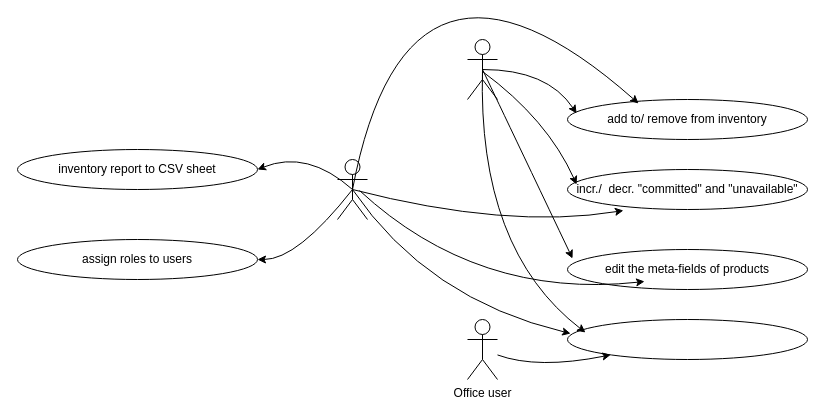
Image size: 825x418. Some labels were removed from this diagram. The centre of each missing label's shape, as x and y in pixels:
Admin: the point at 352,189
view inventory: the point at 687,339
Warehouse user: the point at 482,69
